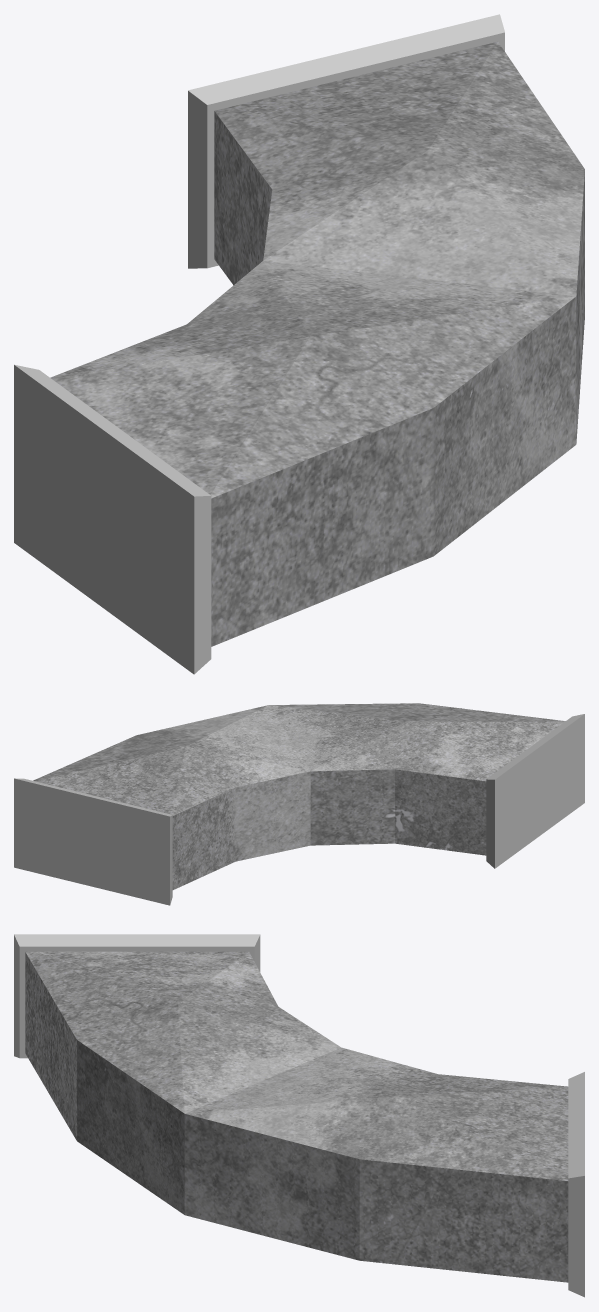
The model's file is Pipes1Turn.fbx.
3 renders of one model, top to bottom at view 1: azimuth 30°, elevation 25°; view 2: azimuth 150°, elevation 25°; view 3: azimuth 270°, elevation 25°, orthographic. The views are drawn at different scales.
Visible parts, largest first — view 1: Pipe1Turn; view 2: Pipe1Turn; view 3: Pipe1Turn.
Boxes of the visible parts, x1,y1,x2,y2 form: Pipe1Turn: (14,14,584,674); Pipe1Turn: (14,703,584,905); Pipe1Turn: (14,934,584,1297).
Size of the model in its own units: 2.55 by 0.7 by 2.55.
